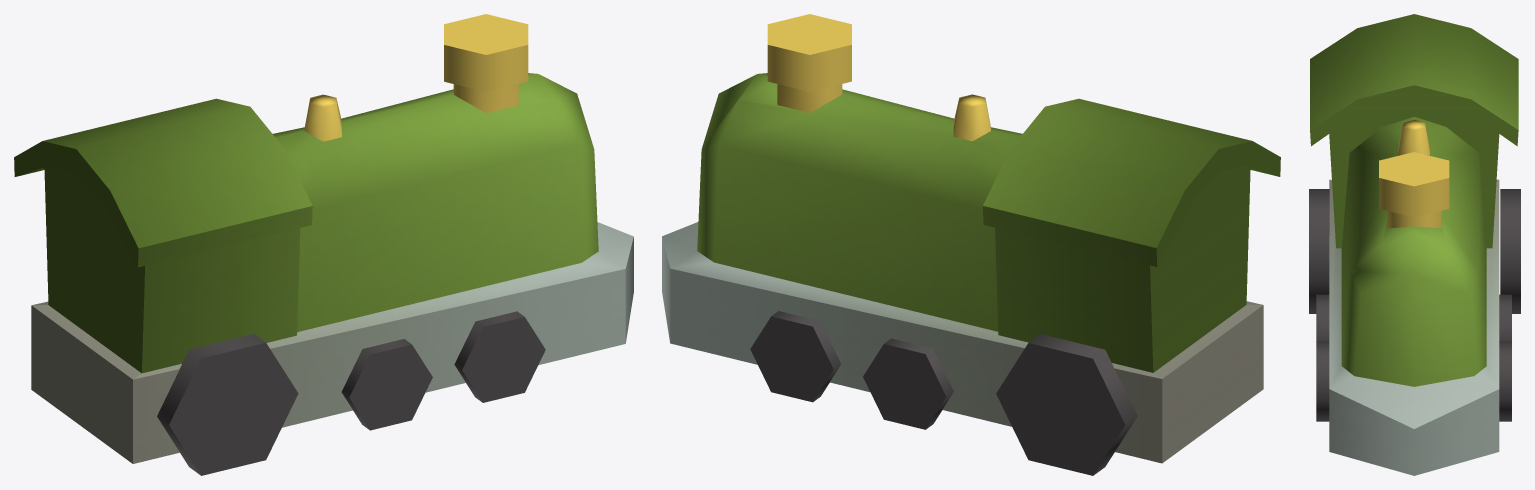
File: SM_Train_01.fbx
3 renders of one model, left to right at view 1: azimuth 30°, elevation 25°; view 2: azimuth 150°, elevation 25°; view 3: azimuth 270°, elevation 25°, orthographic. The views are drawn at different scales.
Visible parts, largest first — view 1: M_Train_1; view 2: M_Train_1; view 3: M_Train_1.
Part boxes in pixels (box(x1,y1,x2,y2)): M_Train_1: box(14, 14, 633, 475); M_Train_1: box(662, 14, 1280, 475); M_Train_1: box(1309, 14, 1520, 475).
Bounding box in the file's own units: 47.31 × 25.2 × 18.58.
